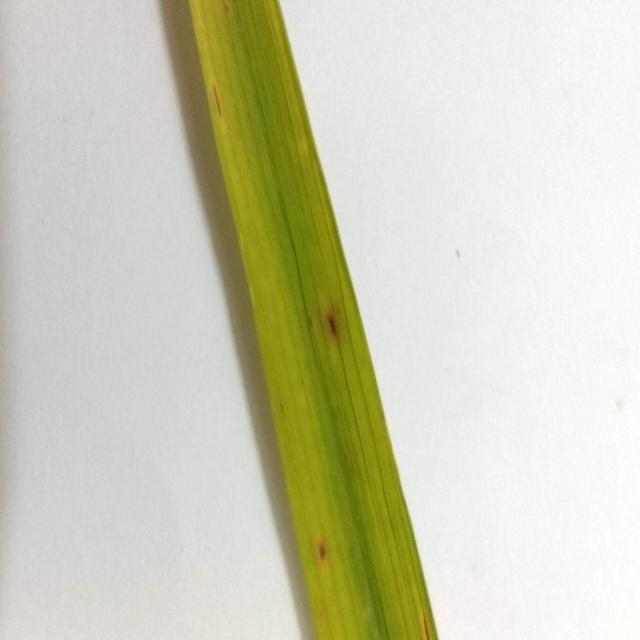Brown spot: (300, 284, 354, 364), (306, 515, 348, 576), (202, 79, 236, 125), (402, 600, 432, 640), (214, 0, 242, 21)
